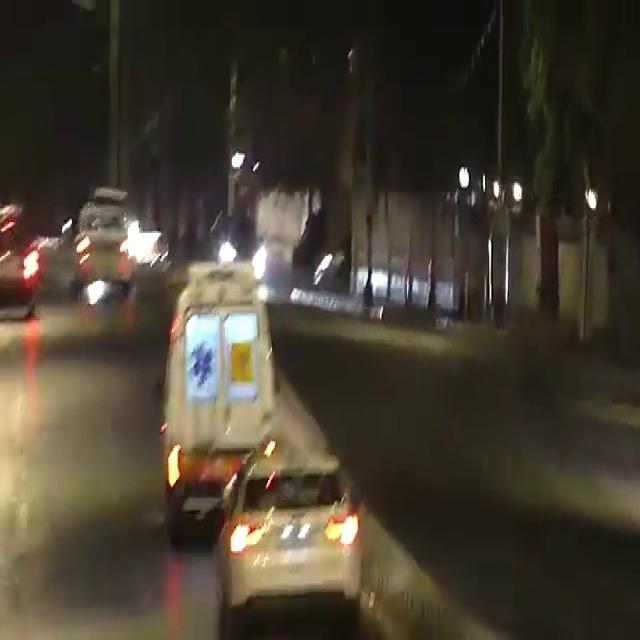ambulance: (151, 286, 285, 494)
